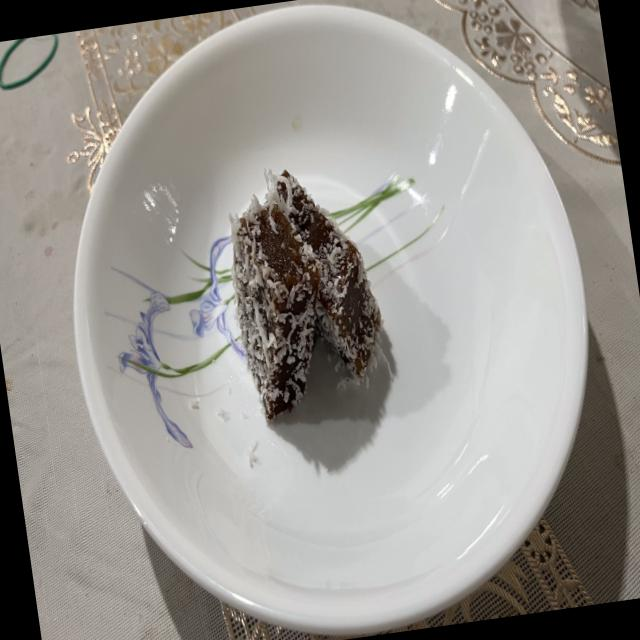kaswi: (271, 167, 381, 384), (233, 198, 323, 421)
